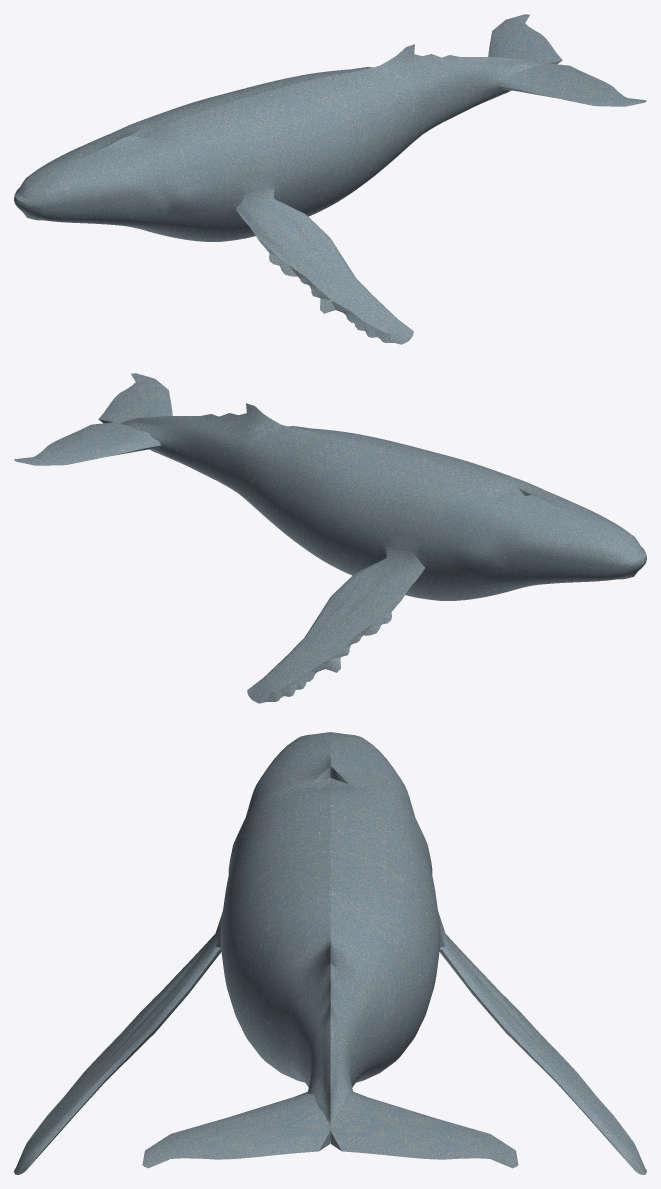
Rendered from whale.dae.
3 views of the same model, one above another, from view 1: azimuth 30°, elevation 25°; view 2: azimuth 150°, elevation 25°; view 3: azimuth 270°, elevation 25° (orthographic). The views are drawn at different scales.
Visible parts, largest first — view 1: group_0 (×2), group_1 (×2); view 2: group_0 (×2), group_1 (×2); view 3: group_0 (×2), group_1 (×2).
Part boxes in pixels (left/top/right/bottom): group_0 (×2): left=14, top=44, right=540, bottom=344; group_1 (×2): left=488, top=14, right=646, bottom=106; group_0 (×2): left=120, top=403, right=646, bottom=703; group_1 (×2): left=14, top=373, right=172, bottom=465; group_0 (×2): left=14, top=732, right=646, bottom=1174; group_1 (×2): left=142, top=1091, right=518, bottom=1168.
Size of the model in its own units: 995 by 611 by 329.
